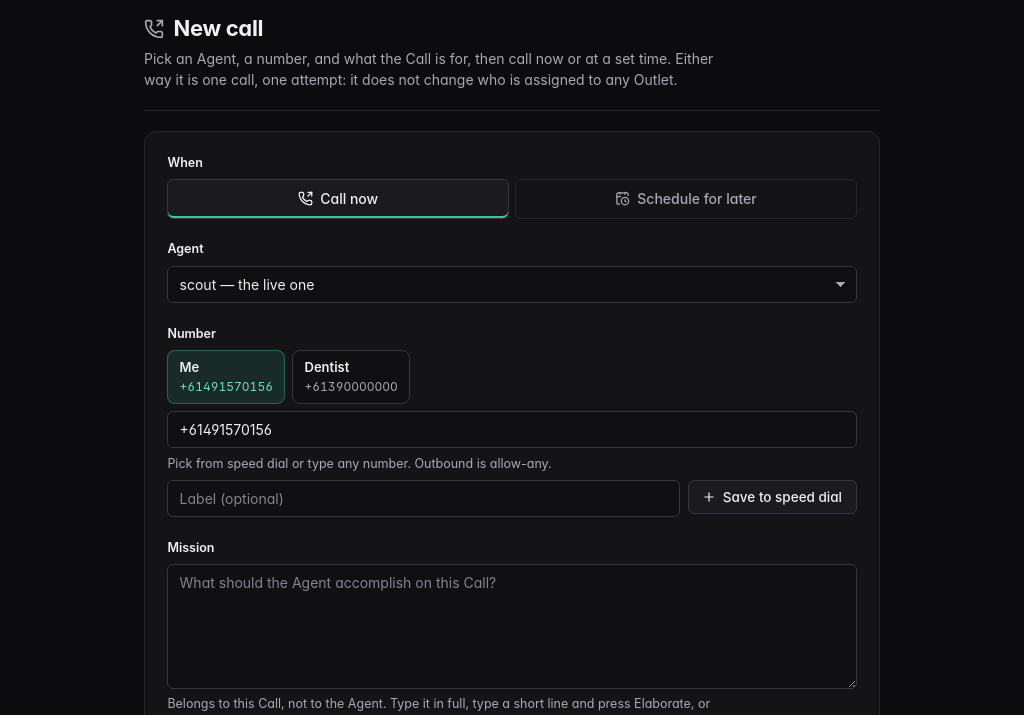
Scenario: Place a call › leaves the typed Mission intact when recording is unavailable
Select "scout — the live one" in the dropdown with test id "place-agent": (512, 284) x1=167 y1=266 x2=857 y2=303
In the text box with test id "place-mission": (512, 626) x1=167 y1=564 x2=857 y2=689, type "keep this typed line"
(page scrolled)
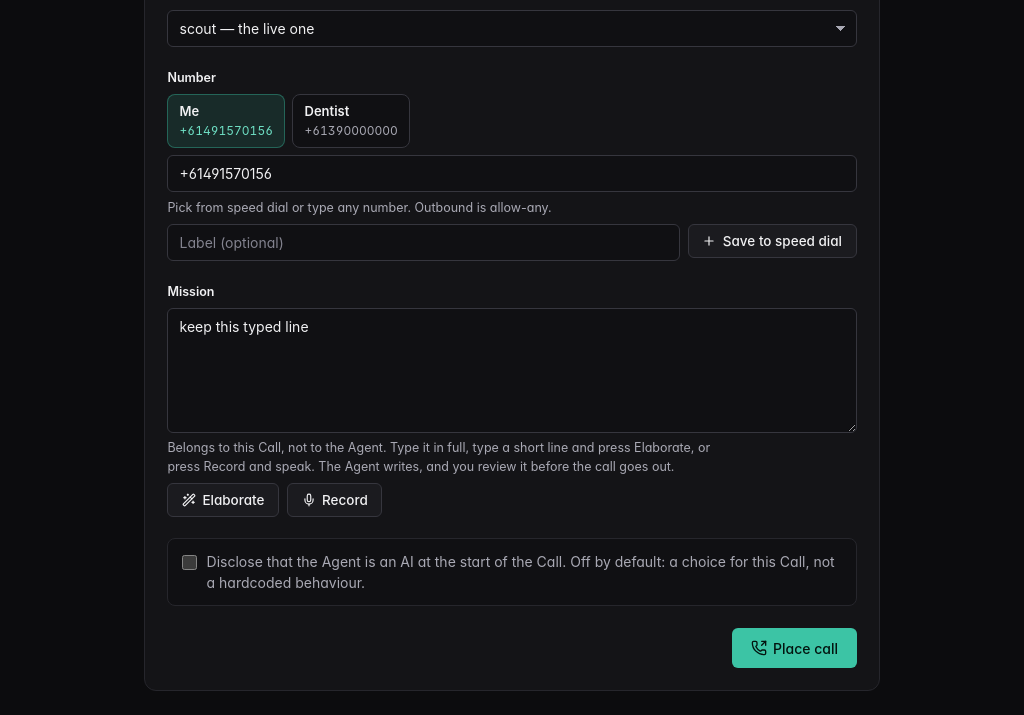
Click the button with test id "place-record": (335, 500) x1=287 y1=483 x2=382 y2=517
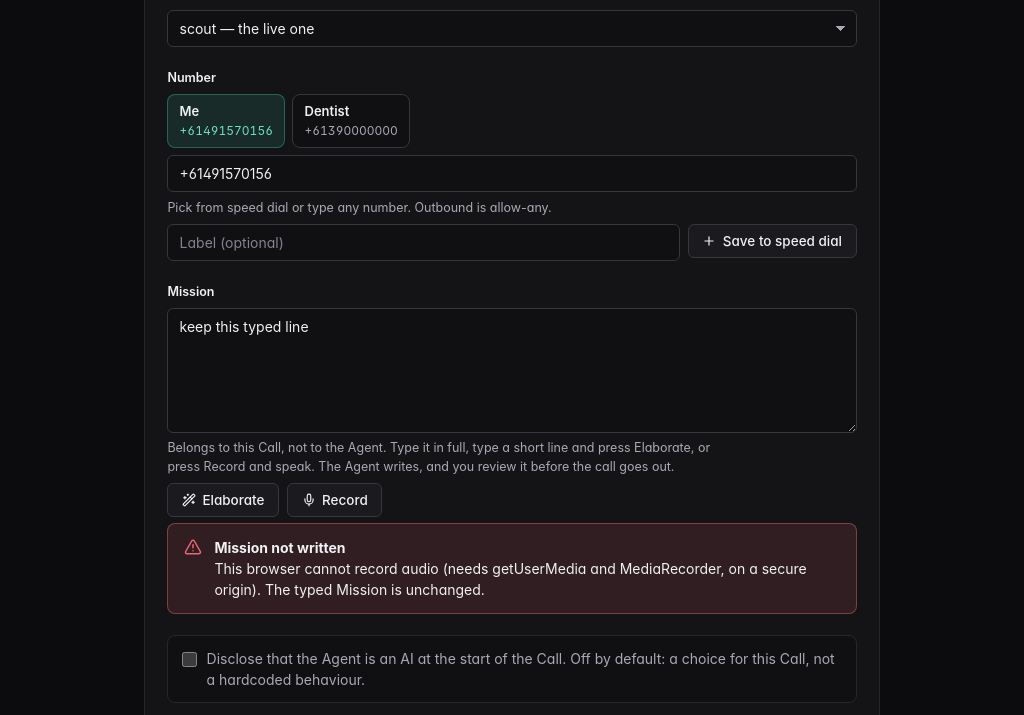
Expected: the element with test id "place-assist-error" shows "cannot record", x1=214 y1=560 x2=807 y2=598
